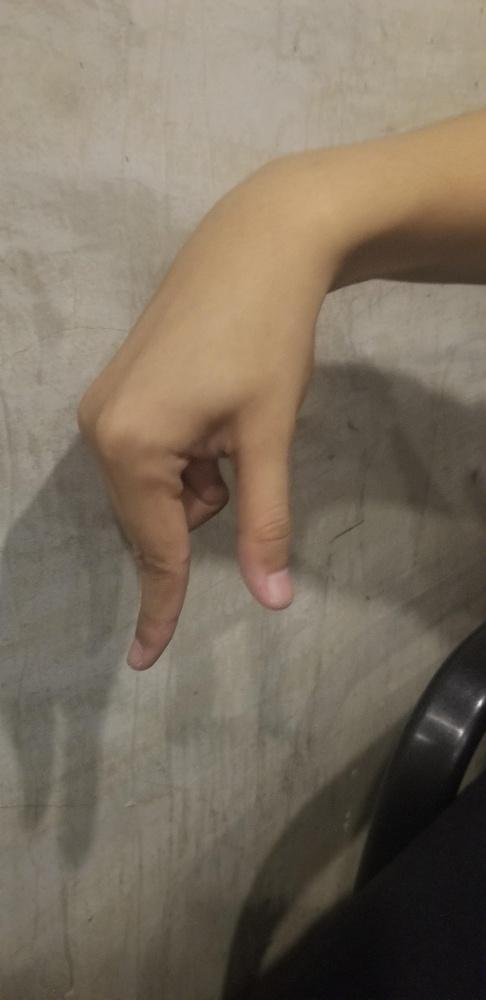q: (75, 251, 317, 671)
